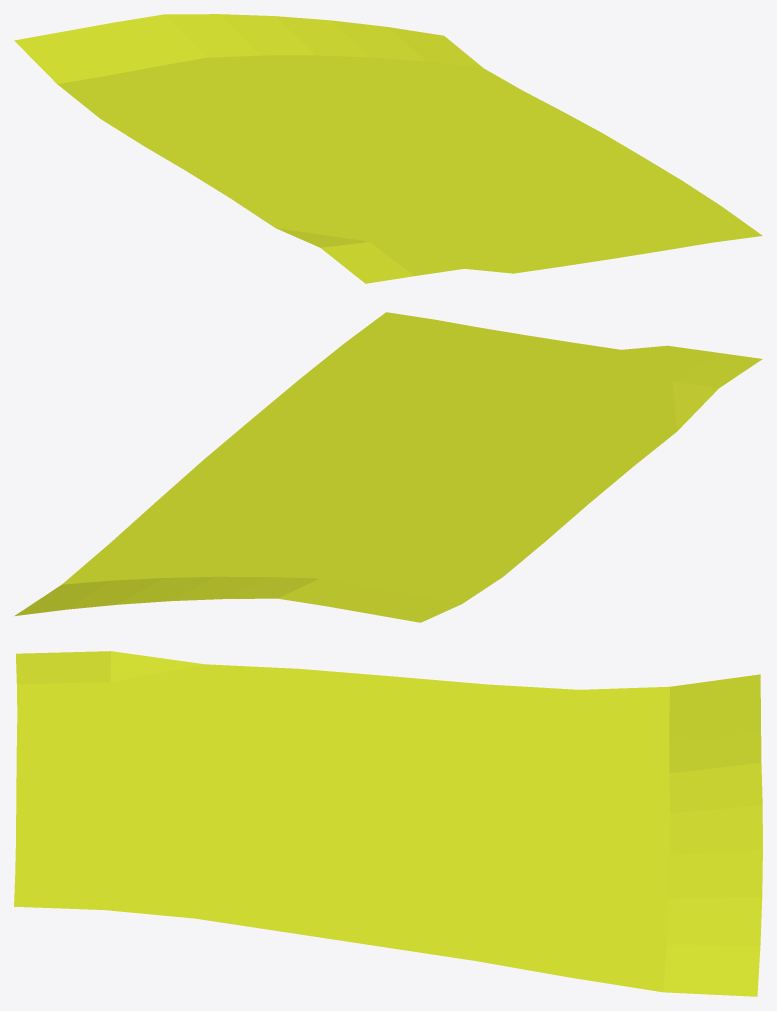
The model's file is map.fbx.
3 views of the same model, one above another, from view 1: azimuth 30°, elevation 25°; view 2: azimuth 150°, elevation 25°; view 3: azimuth 270°, elevation 25° (orthographic). The views are drawn at different scales.
Parts seen in each view (by area): view 1: Plane; view 2: Plane; view 3: Plane.
Part boxes in pixels (x1,y1,x2,y2): Plane: (14,14,762,283); Plane: (14,312,762,622); Plane: (14,651,762,996).
Bounding box in the file's own units: 179 × 47.13 × 256.
